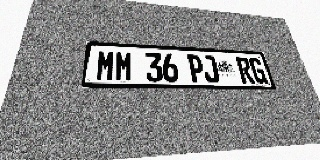3: (145, 52, 163, 82)
6: (161, 53, 179, 82)
G: (248, 57, 268, 84)
J: (201, 55, 220, 83)
M: (95, 50, 115, 81), (115, 51, 133, 82)
P: (187, 54, 205, 83)
R: (235, 57, 255, 83)
